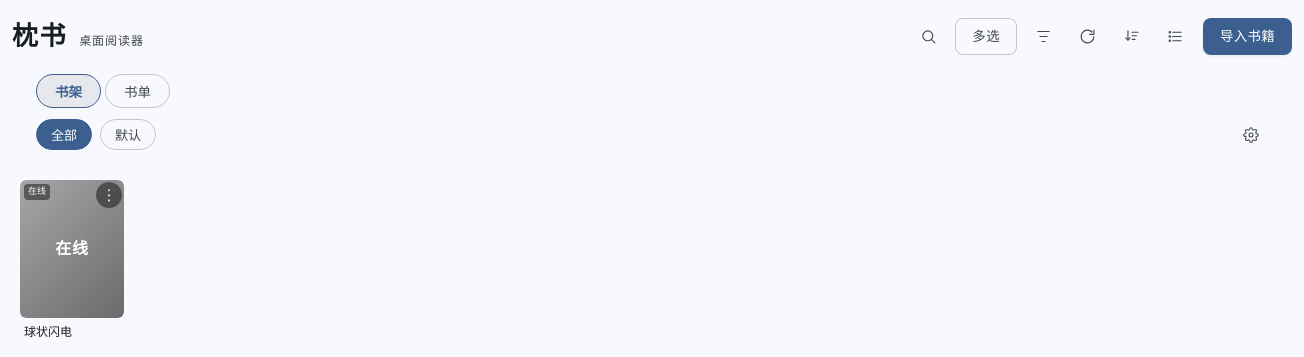
LibraryPage › shows book intro line for source books in list mode
Expected: the text "球状闪电" is shown, [24,323,72,340]
What coordinates should you click on to do the following:
click the button named "切换为列表"
I would click on:
 (1176, 37)
Its box is [1159,20,1193,54].
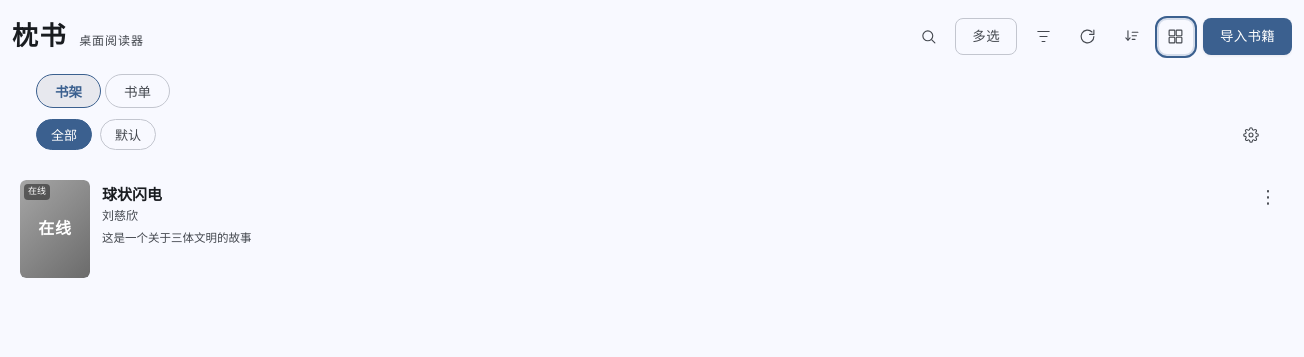
Result: the text "这是一个关于三体文明的故事" is shown at [102,230,252,245]
